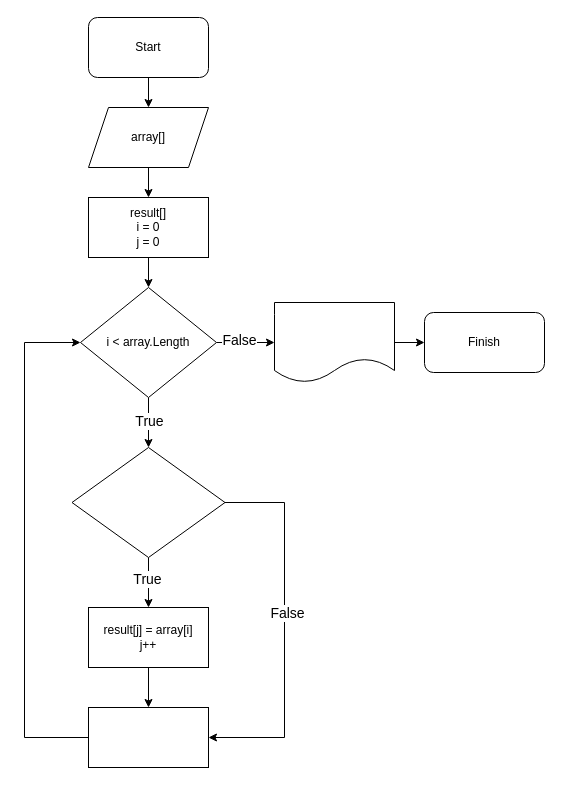
Some shapes in this 562 by 785 pixel diagram are drawn without their labels. The box of each missing label's shape, as (x1, y1, x2, y2) in pixels:
array[i].L ength <= 3: (71, 446, 225, 558)
i++: (88, 706, 208, 768)
result[]: (274, 302, 394, 382)
